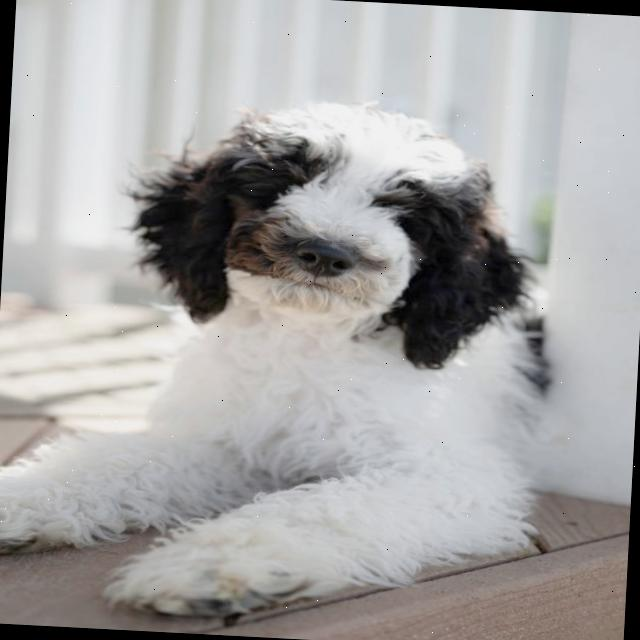Poodle_dog: (104, 78, 546, 390)
